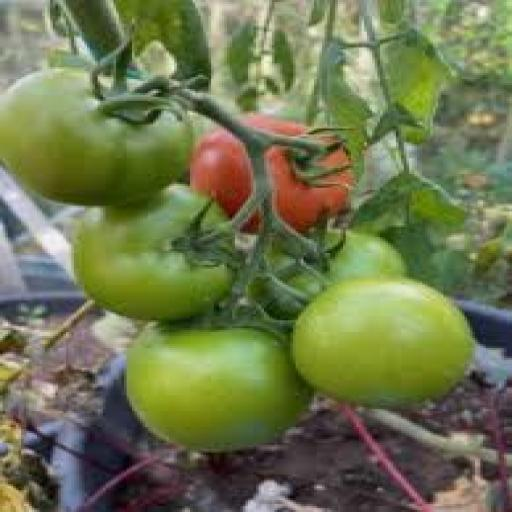tomato: (0, 70, 192, 205), (127, 325, 311, 452), (293, 279, 475, 407), (74, 186, 232, 320), (267, 147, 353, 231), (322, 232, 406, 284), (325, 232, 406, 284)
